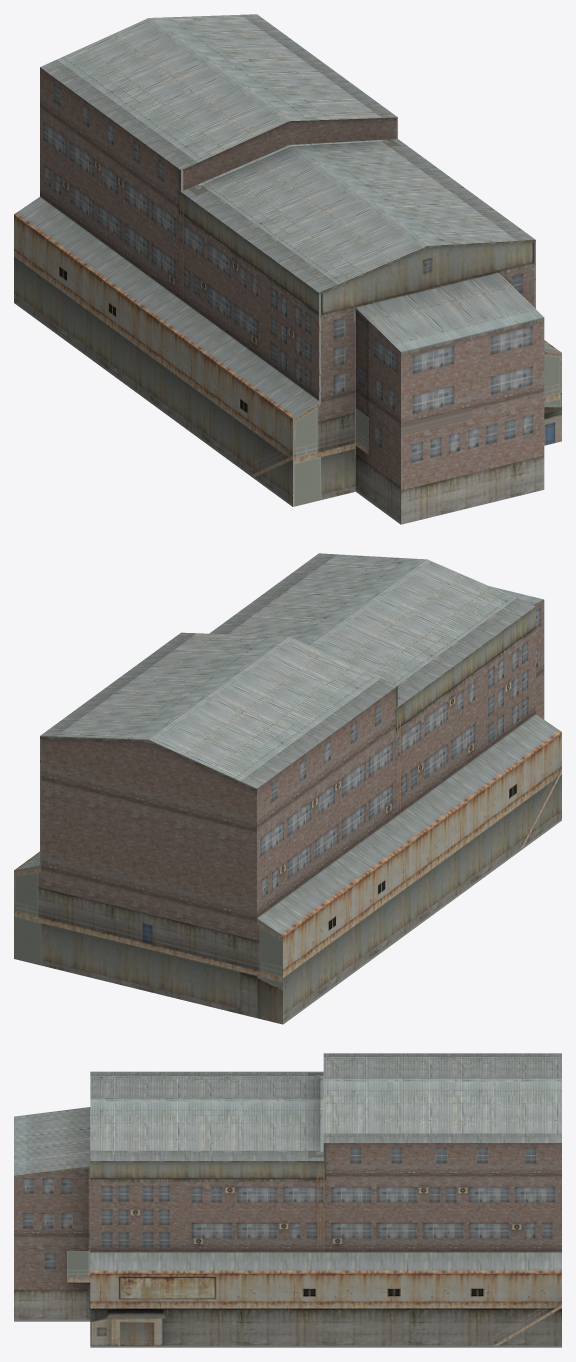
File: building_1_lod2.fbx
3 views of the same model, one above another, from view 1: azimuth 30°, elevation 25°; view 2: azimuth 150°, elevation 25°; view 3: azimuth 270°, elevation 25° (orthographic). The views are drawn at different scales.
Visible parts, largest first — view 1: Mesh Object; view 2: Mesh Object; view 3: Mesh Object.
Boxes of the visible parts, left/top/right/bottom form: Mesh Object: left=14, top=14, right=561, bottom=524; Mesh Object: left=14, top=553, right=561, bottom=1024; Mesh Object: left=14, top=1053, right=561, bottom=1347.
Bounding box in the file's own units: 24.8 × 22.2 × 51.7.
